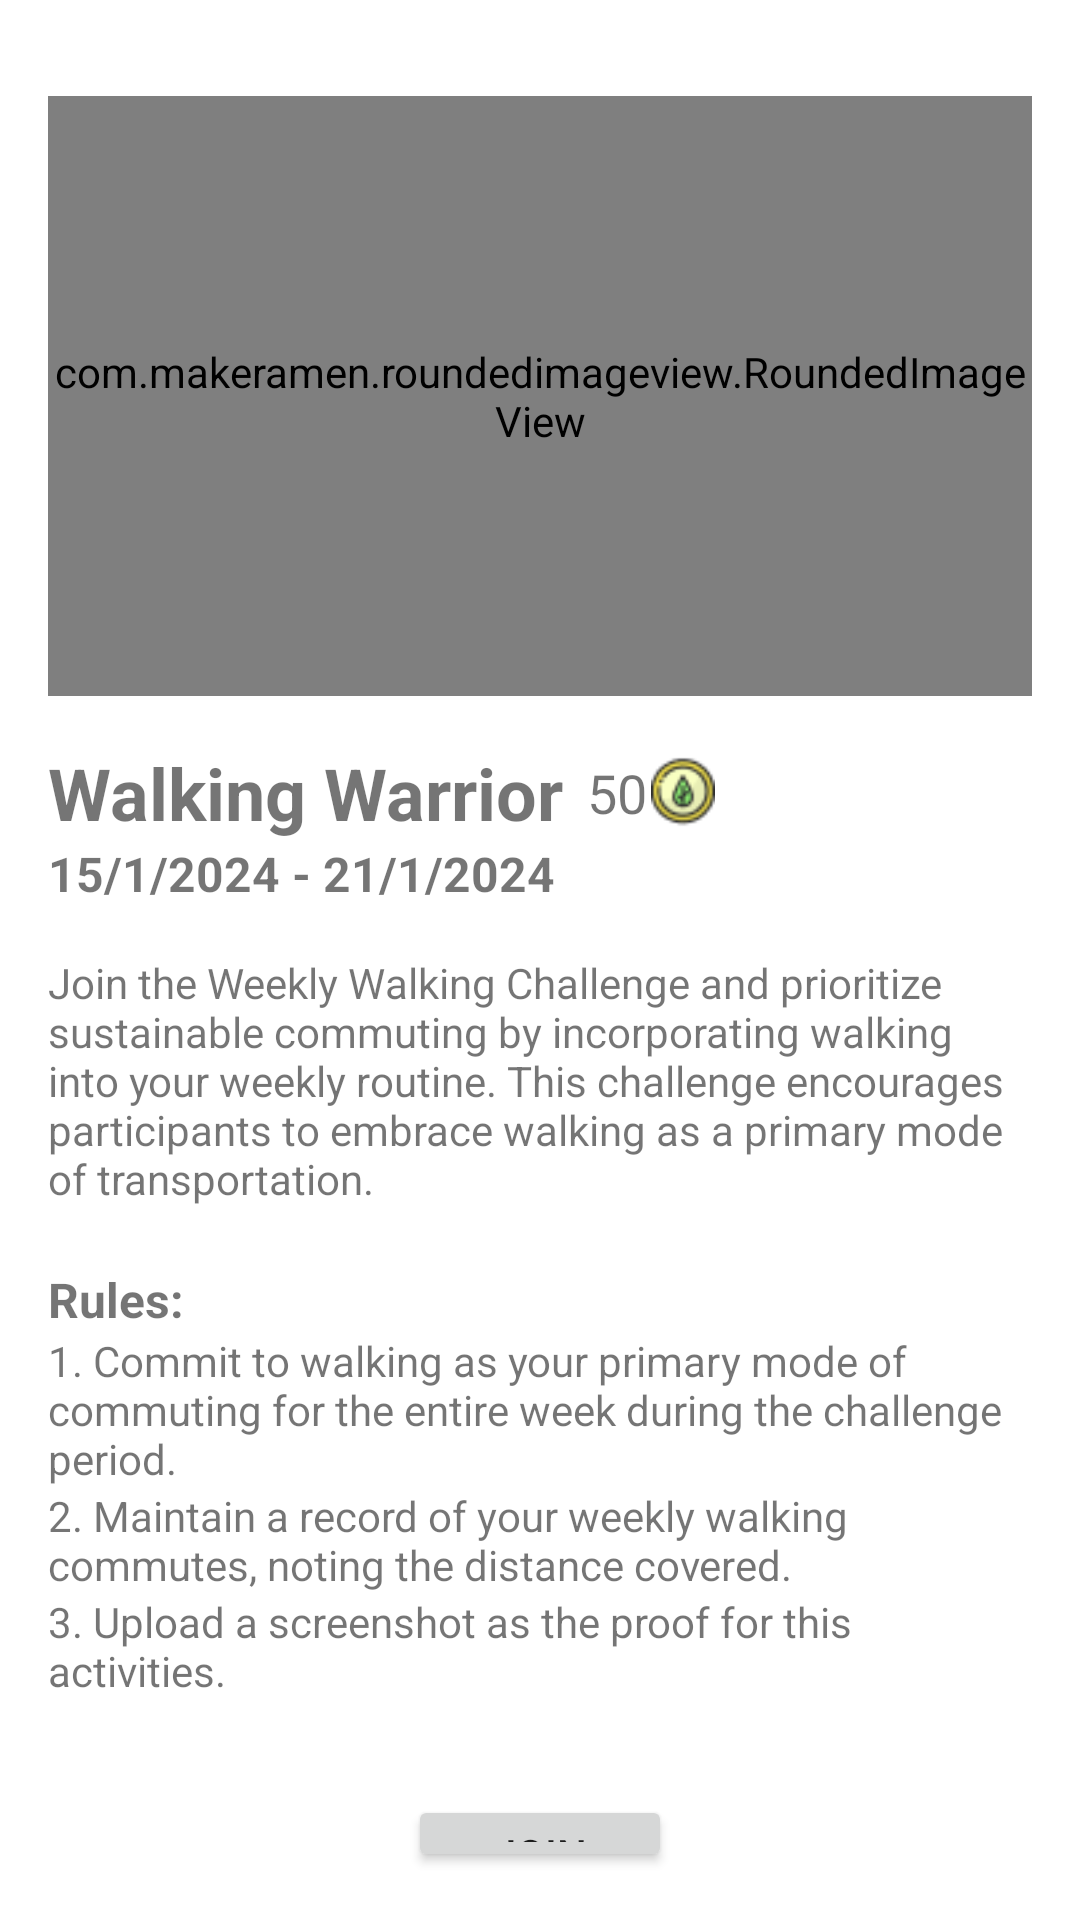

Named icons in this screenshot (1080*1920) and their centers, (x,y):
Ecocoin Image: (683,792)
